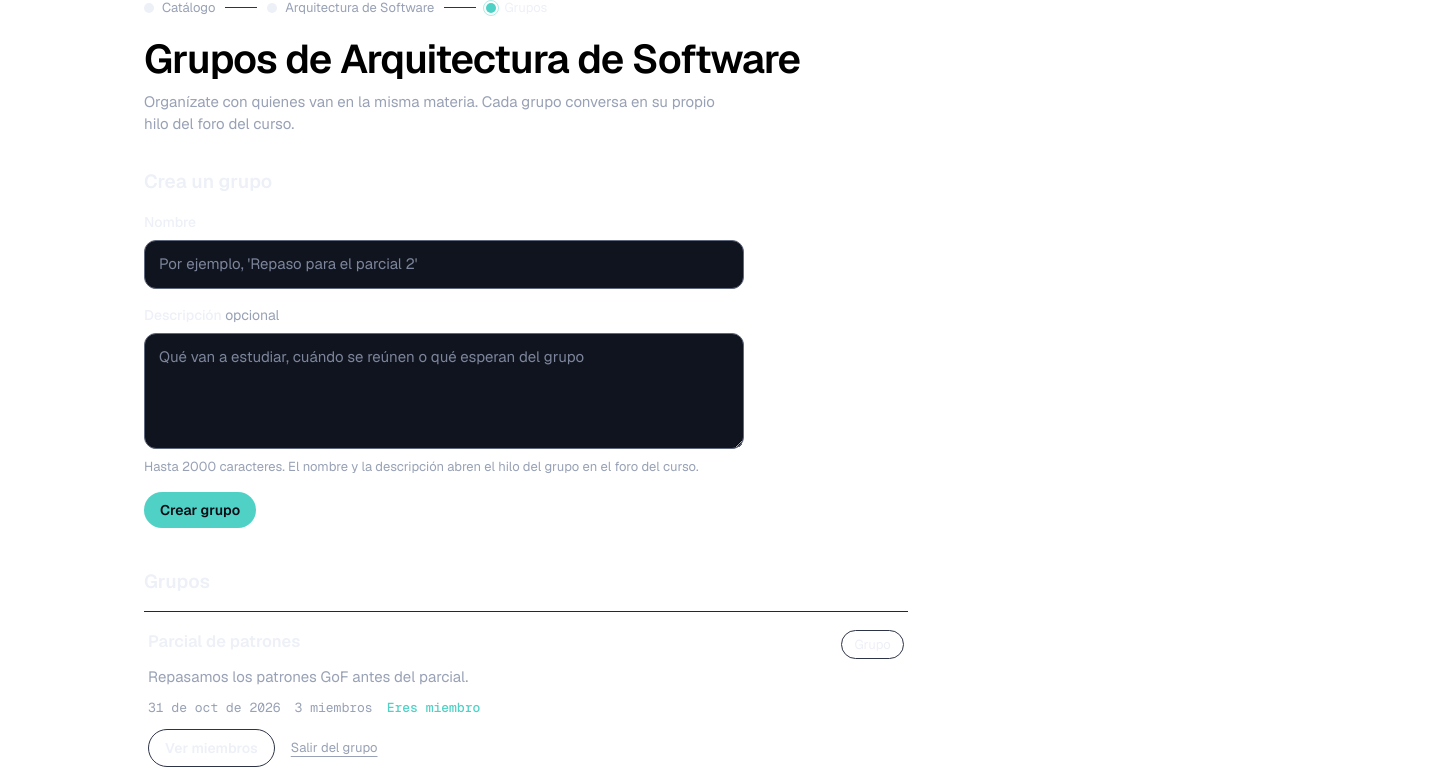
Test: Unirse a un grupo de estudio y salir de él (HU405) › un miembro sale tras confirmarlo: vuelve a ofrecerse unirse, con el foco, y resta un miembro
Click the button with aria-label "Salir del grupo Parcial de patrones": x=334, y=748 [291,736,378,760]
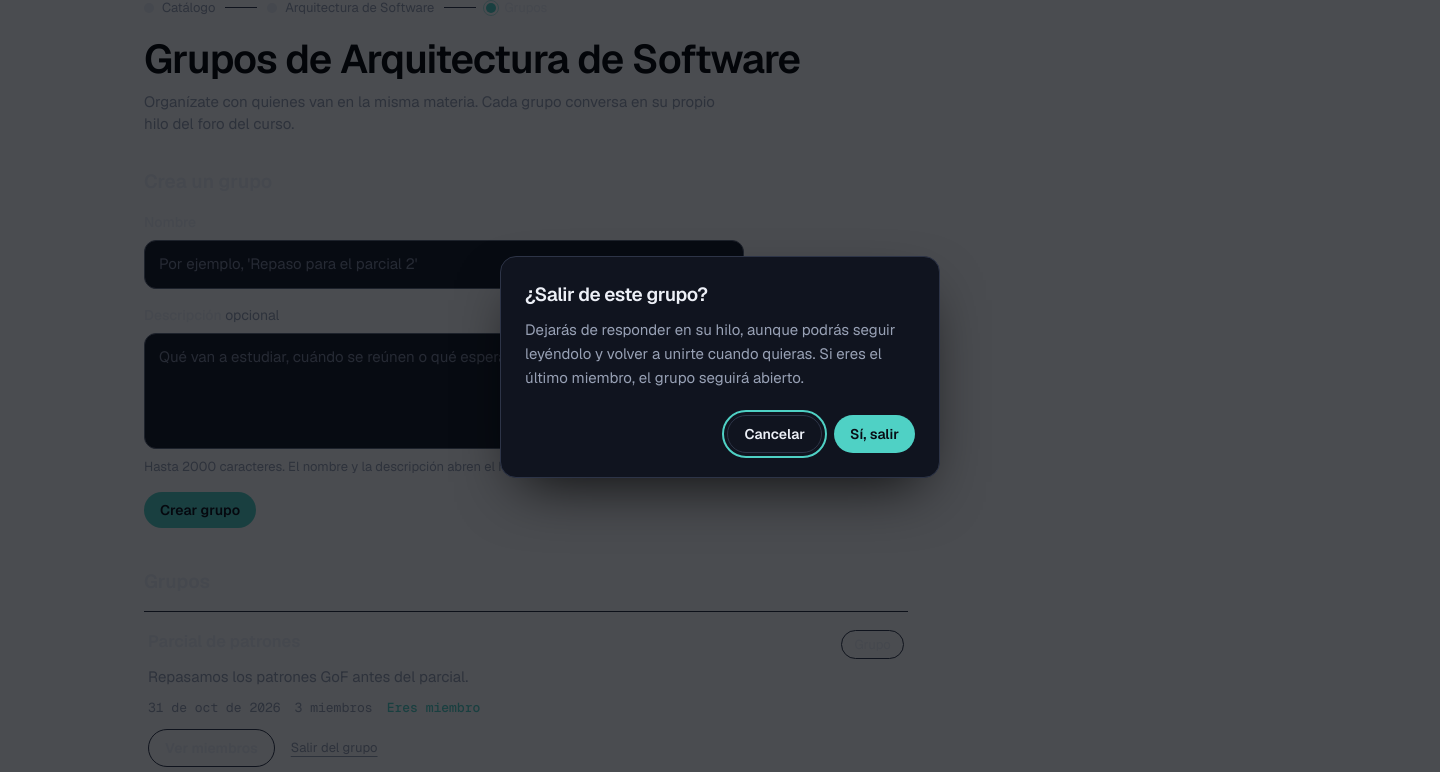
Now the text "el grupo seguirá abierto" is shown, box [525,320,896,388]
Click the button "Sí, salir": x=874, y=434 [834,415,915,453]
(page scrolled)
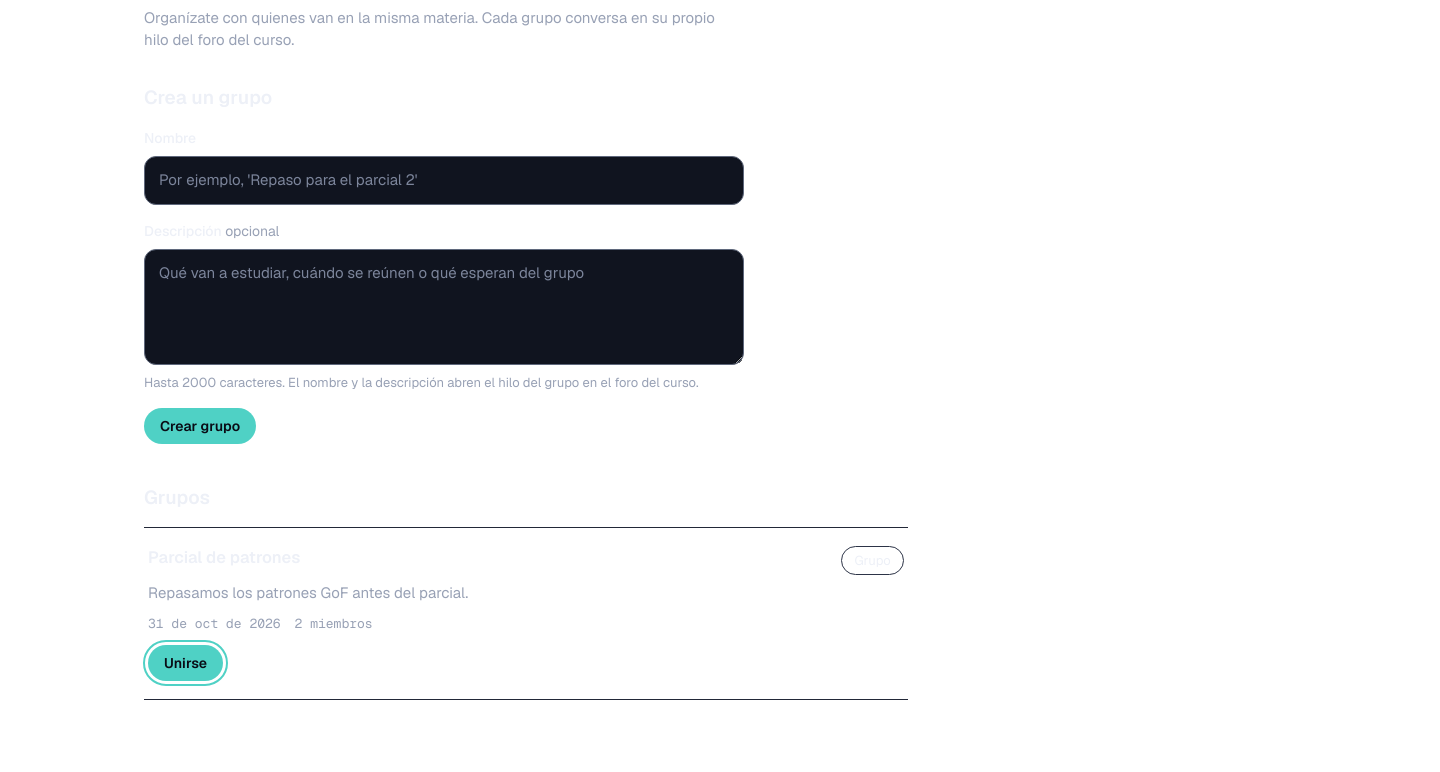
Now the element that starts with "Parcial de patrones" shows "2 miembros", box [295,615,373,632]
Now the element that starts with "Parcial de patrones" no longer shows "Eres miembro", box [144,528,908,699]
